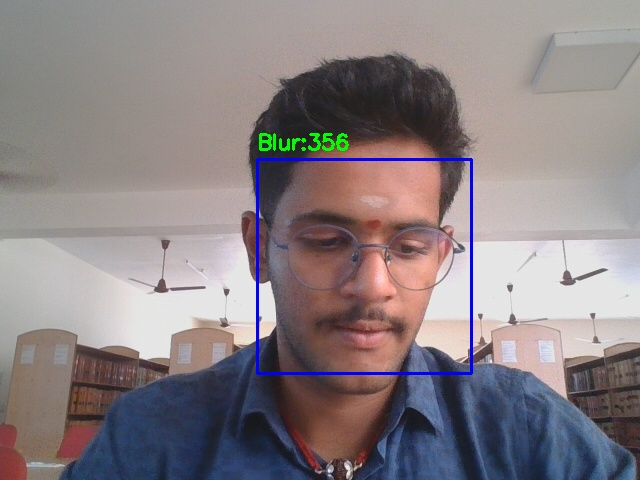real: (257, 159, 471, 373)
